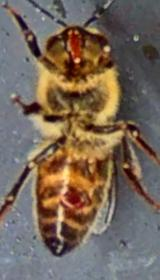varroa_mite: (59, 184, 90, 215)
